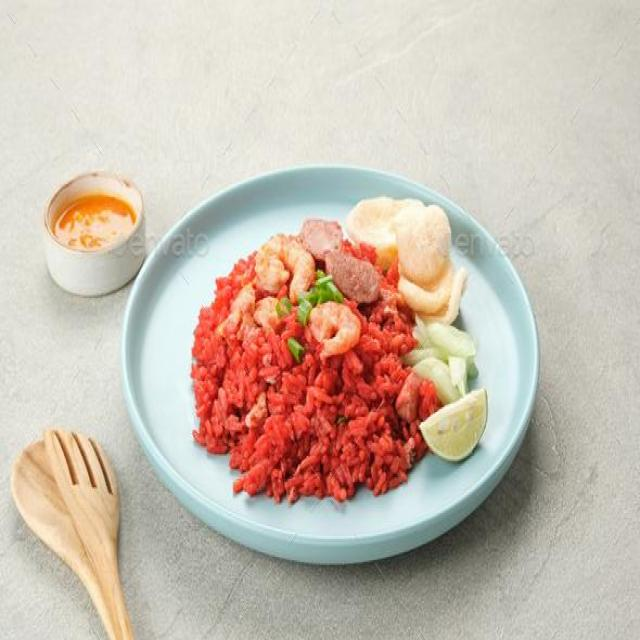Nasi Goreng: (190, 217, 478, 490)
